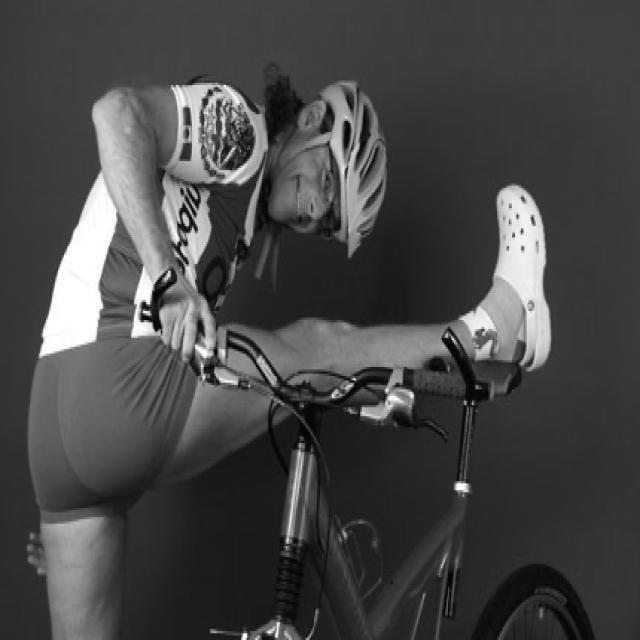Helmet: (258, 67, 398, 280)
